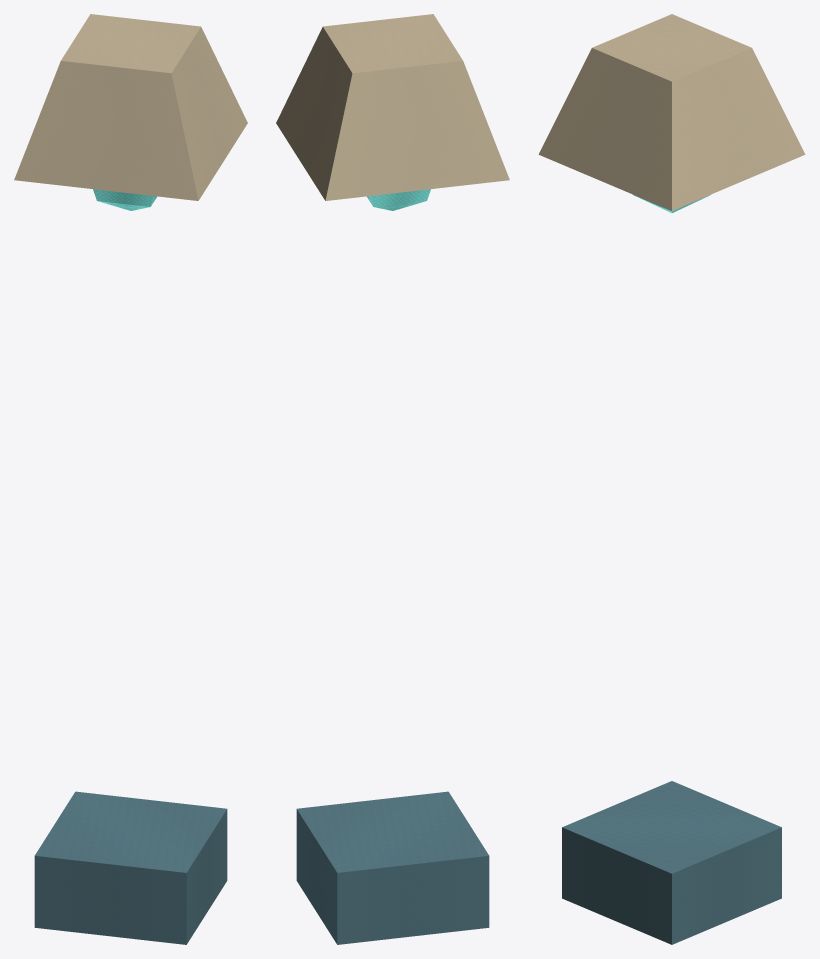
File: atlas100-sailpunk-util01.lod2.glb
3 renders of one model, left to right at view 1: azimuth 30°, elevation 25°; view 2: azimuth 150°, elevation 25°; view 3: azimuth 270°, elevation 25°, orthographic.
Visible parts, largest first — view 1: atlas100-sailpunk-util01:part-002, atlas100-sailpunk-util01:part-000, atlas100-sailpunk-util01:part-003; view 2: atlas100-sailpunk-util01:part-002, atlas100-sailpunk-util01:part-000, atlas100-sailpunk-util01:part-003; view 3: atlas100-sailpunk-util01:part-002, atlas100-sailpunk-util01:part-000.
Part boxes in pixels (x1=…): atlas100-sailpunk-util01:part-002: x1=14, y1=14, x2=247, y2=200; atlas100-sailpunk-util01:part-000: x1=34, y1=791, x2=227, y2=944; atlas100-sailpunk-util01:part-003: x1=93, y1=189, x2=156, y2=210; atlas100-sailpunk-util01:part-002: x1=276, y1=14, x2=509, y2=200; atlas100-sailpunk-util01:part-000: x1=296, y1=791, x2=489, y2=944; atlas100-sailpunk-util01:part-003: x1=367, y1=189, x2=430, y2=210; atlas100-sailpunk-util01:part-002: x1=538, y1=14, x2=805, y2=210; atlas100-sailpunk-util01:part-000: x1=562, y1=781, x2=781, y2=944.
Size of the model in its own units: 0.7113 by 2.5 by 0.7113.
Materials: 3 (3 with a texture image).
